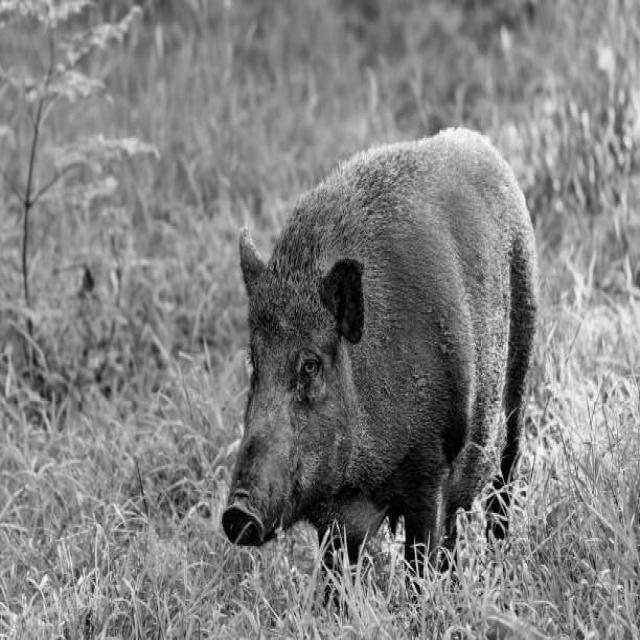boar: (223, 129, 541, 569)
